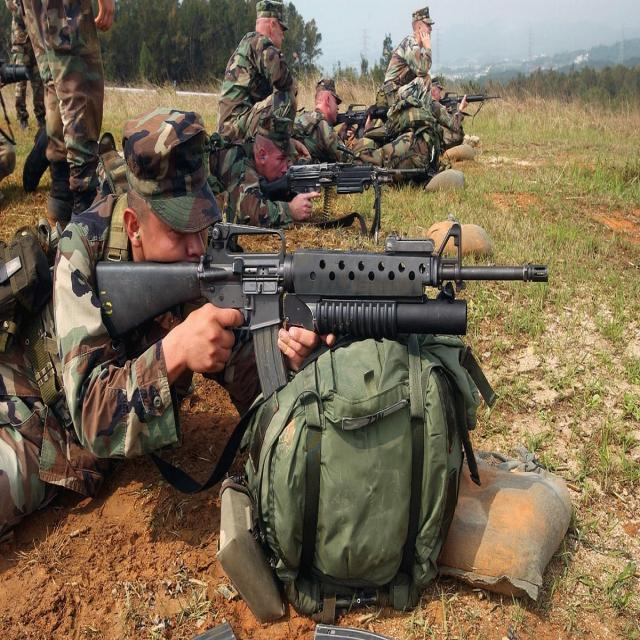m16: (73, 148, 580, 502)
